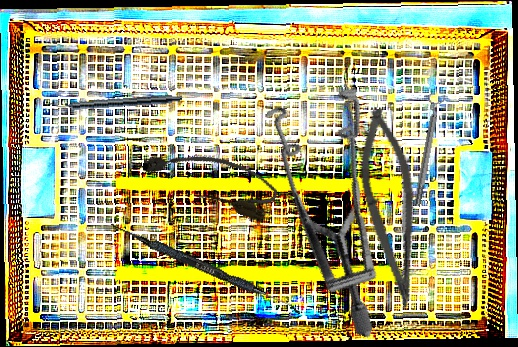Cannula: (138, 134, 282, 224)
Fixation Ring: (407, 92, 447, 208)
Handpiece: (48, 91, 183, 113)
Micro Scissor: (347, 105, 438, 313)
Spatula Surgical: (107, 221, 305, 315)
Speculum: (206, 62, 448, 339)
